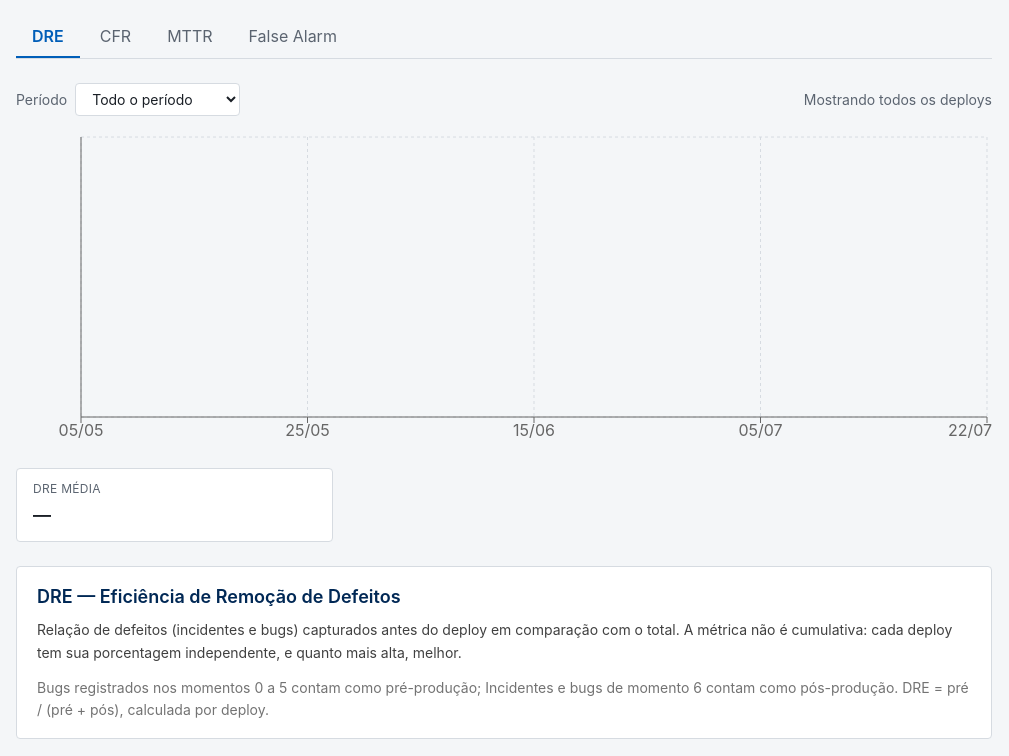
it: Dashboard metric switching › switching to MTTR changes the chart label and the description text
Click the tab "MTTR" at (190, 37), box [151, 16, 228, 58]
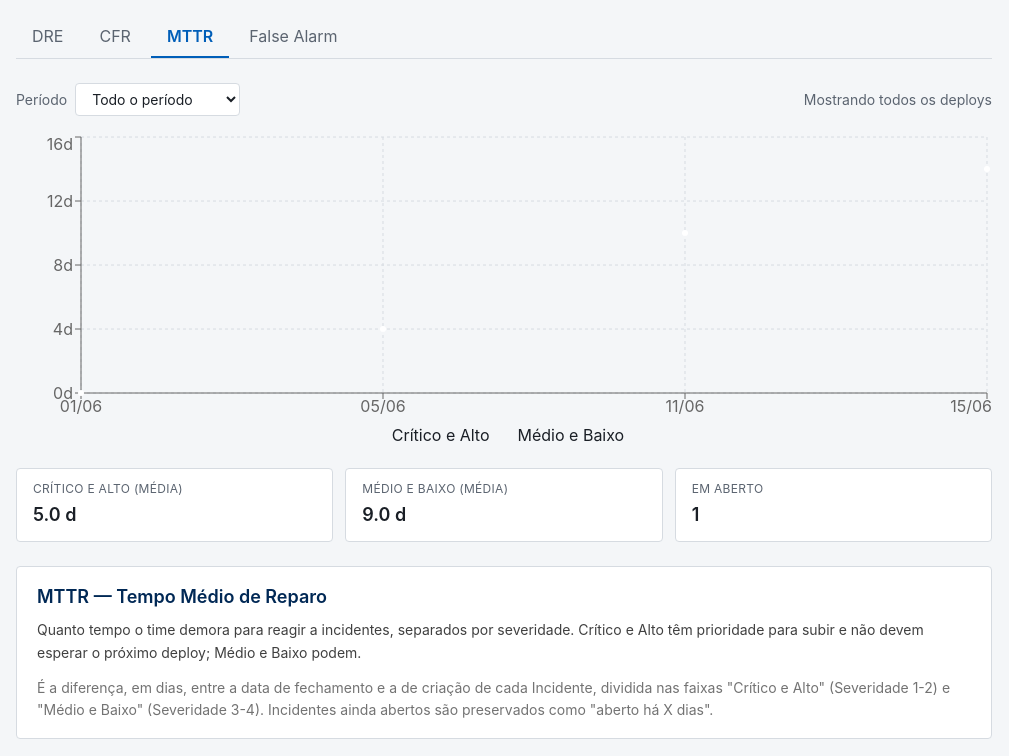
Expected: the picture named "MTTR" is shown, [16, 132, 992, 452]
Expected: the element named "Descrição da métrica" shows "MTTR", [37, 586, 327, 607]
